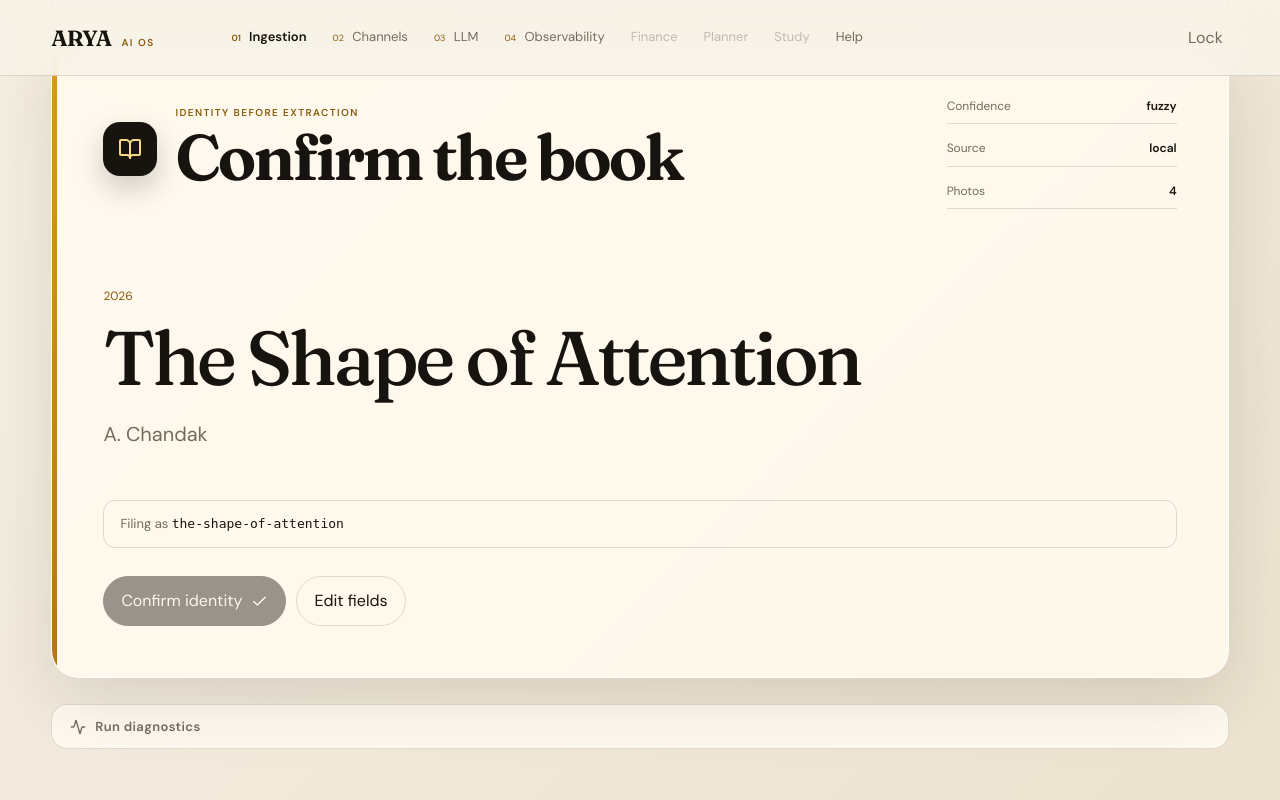
Test: an unsupported legal action › fails loudly, blocks mutation, and is exposed in Run diagnostics
(page scrolled)
Expected: the button "Confirm identity" is disabled, x1=103 y1=576 x2=286 y2=626
What coordinates should you click on to do the following:
click the heading "Run diagnostics"
I would click on:
 (135, 727)
Its box is x1=70 y1=718 x2=201 y2=735.
(page scrolled)
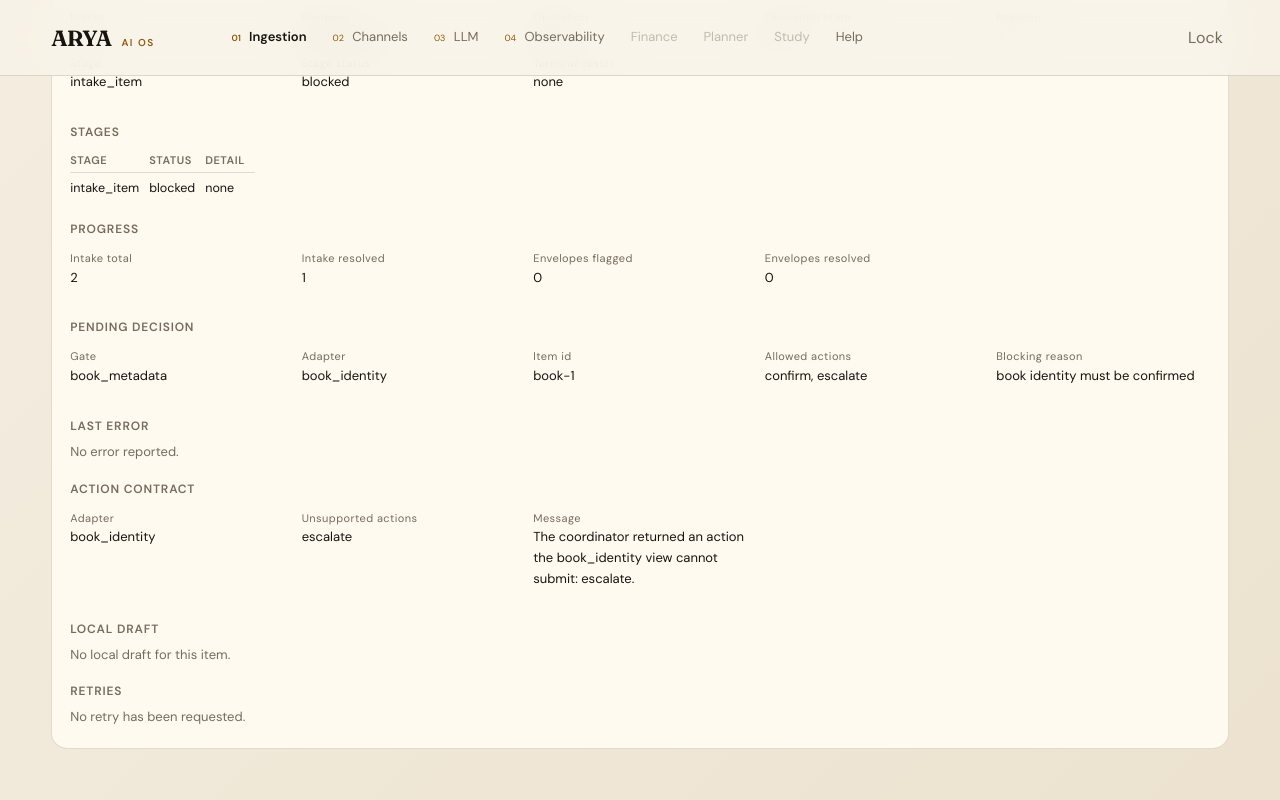
Now the text "book_identity" below "Message" is shown, box x1=70 y1=528 x2=156 y2=545
Now the text "escalate" is shown, box x1=302 y1=528 x2=352 y2=545
